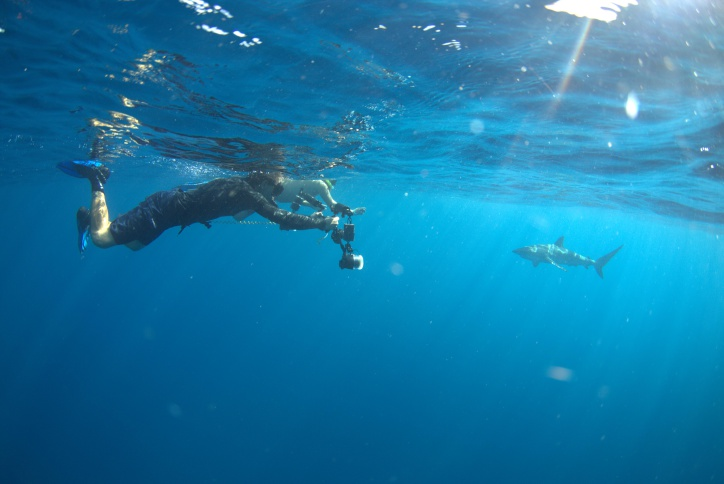Sedoso: (504, 228, 631, 281)
